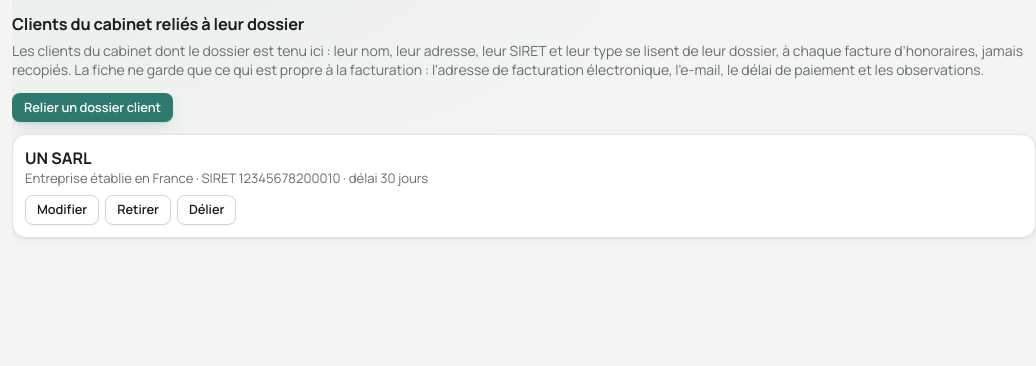
Test: les fiches reliées, dans la vue « Clients » du dossier du cabinet (LM3) › « Délier » se refuse avant le clic, aux mots de la base : l’adresse électronique qui ne va plus, le SIRET déjà rangé
This screenshot has width=1036, height=366.
Step 1. Click the button "Délier" → click(207, 210), box [177,195,236,225]
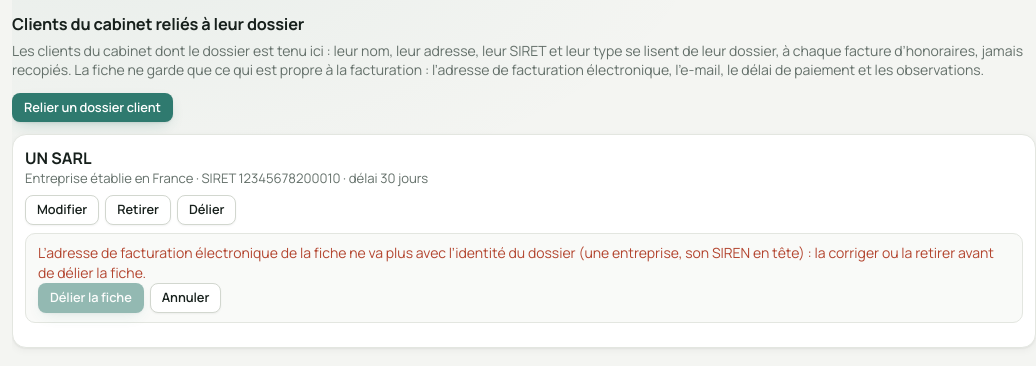
Expected: the text "L’adresse de facturation électronique de la fiche ne va plus avec l’identité du dossier" is shown, [38,243,994,282]
Expected: the button "Délier la fiche" is disabled, [38,283,144,313]
